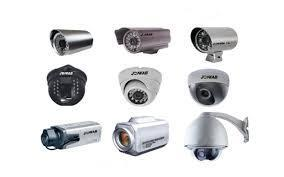maru: (184, 114, 234, 163), (117, 67, 162, 105), (47, 65, 87, 105), (188, 69, 229, 105)
tutu: (113, 117, 170, 155), (41, 120, 101, 150), (114, 25, 171, 55), (190, 26, 238, 55), (49, 27, 93, 58)
